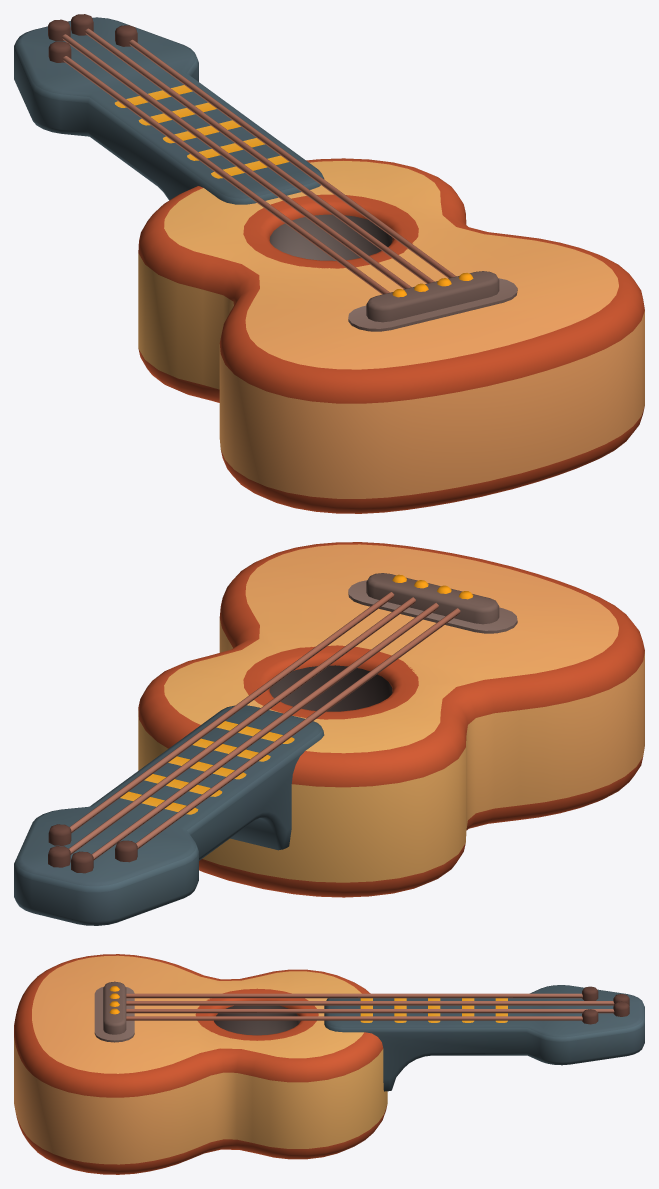
The model's file is Guitar_01.glb.
3 renders of one model, top to bottom at view 1: azimuth 30°, elevation 25°; view 2: azimuth 150°, elevation 25°; view 3: azimuth 270°, elevation 25°, orthographic. The views are drawn at different scales.
Visible parts, largest first — view 1: Guitar_01; view 2: Guitar_01; view 3: Guitar_01.
Part boxes in pixels (left/top/right/bottom): Guitar_01: left=14, top=14, right=644, bottom=513; Guitar_01: left=14, top=542, right=644, bottom=925; Guitar_01: left=14, top=954, right=644, bottom=1174.
Bounding box in the file's own units: 0.4513 × 0.1823 × 0.9025.
1 material, 1 textured.
